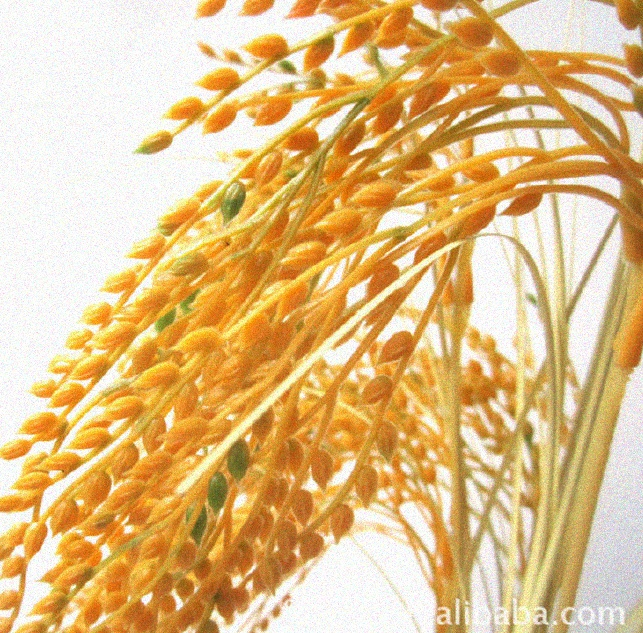rice: (16, 11, 545, 630)
